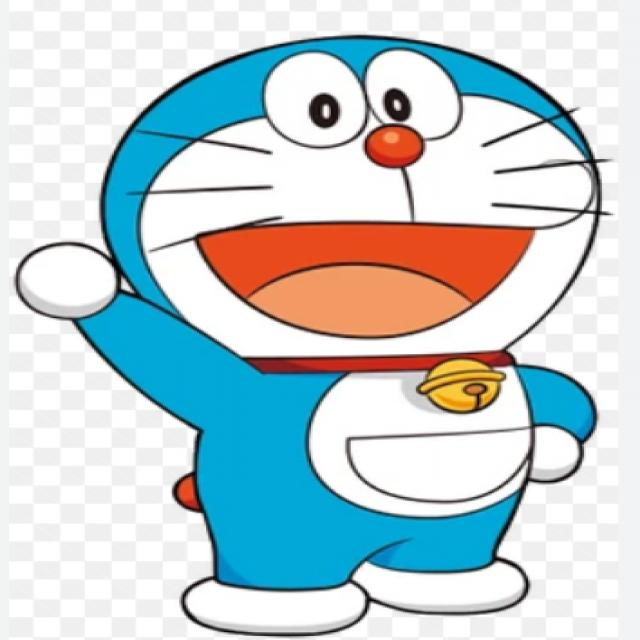Ameng: (74, 32, 604, 387)
